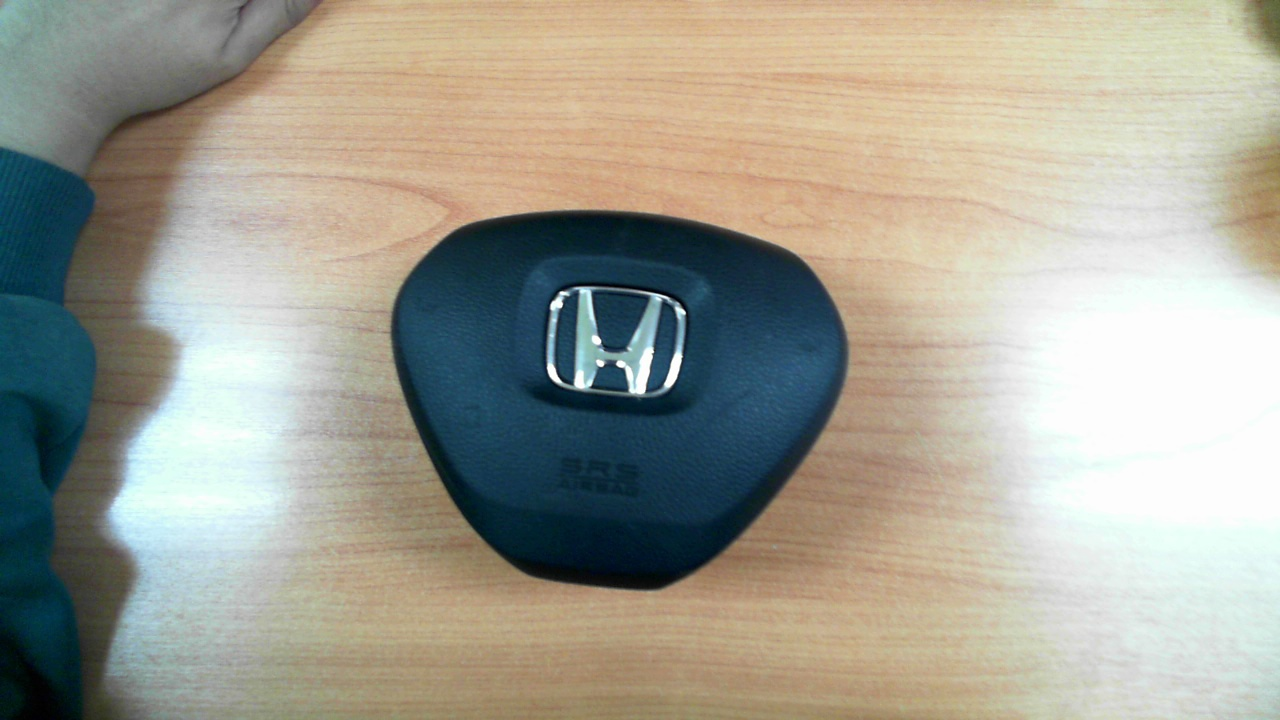Airbag: (391, 209, 850, 590)
Honda: (545, 285, 687, 398)
